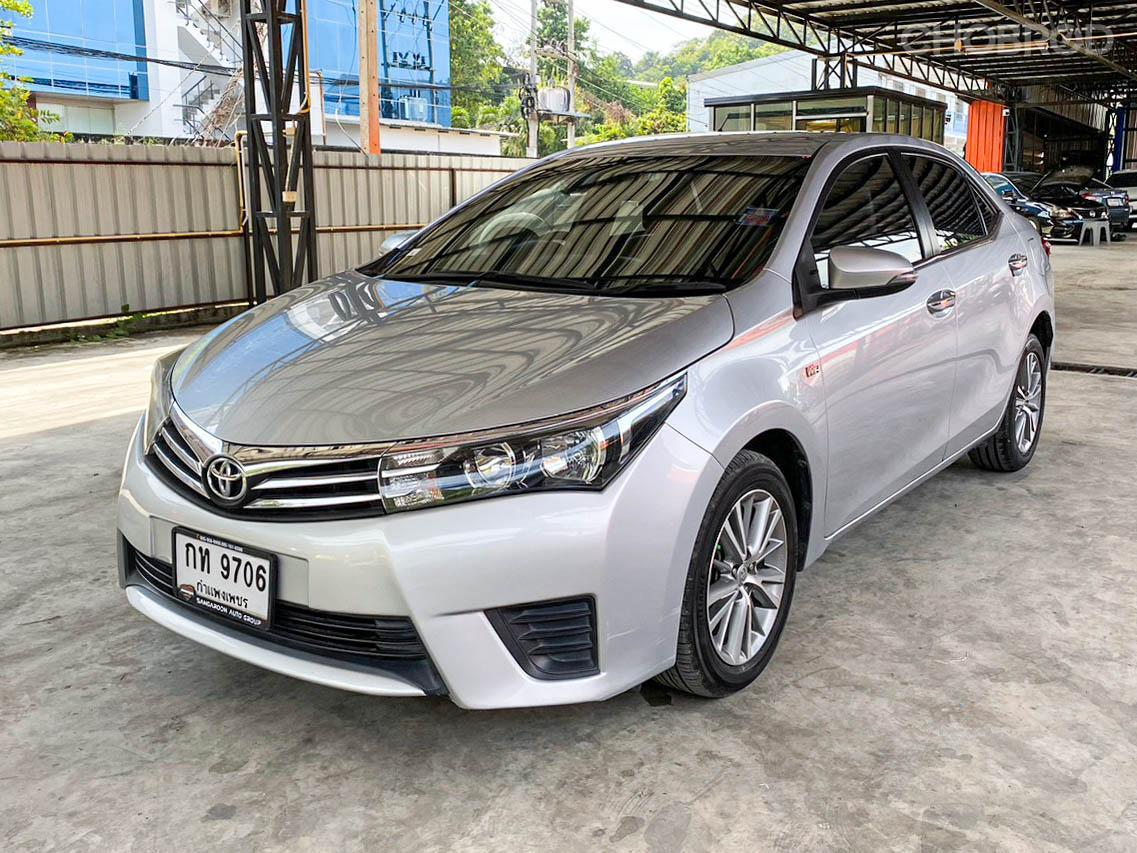license-plate: (160, 519, 290, 644)
